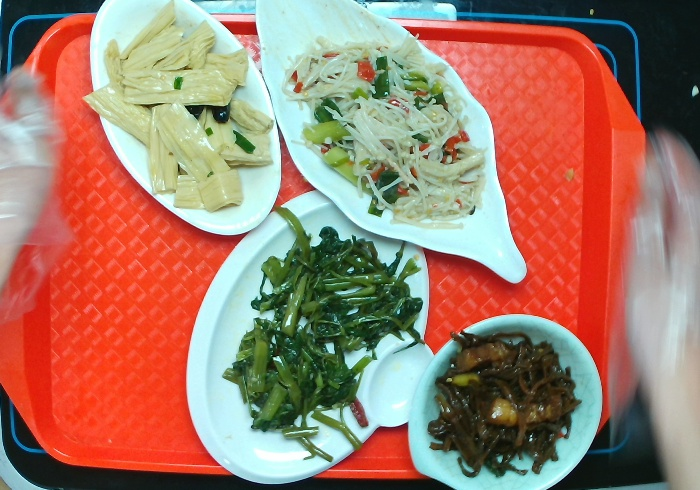RJxy-Bai_Se_Tuo_Yuan: (82, 1, 287, 239)
RJxy-Shu_Ye_Pan: (249, 1, 533, 285)
RJxy-Xiao_Jiao_Yuan_Wan: (401, 309, 610, 490)
RJxy-Zhan_Liao_Pan: (174, 184, 444, 490)
